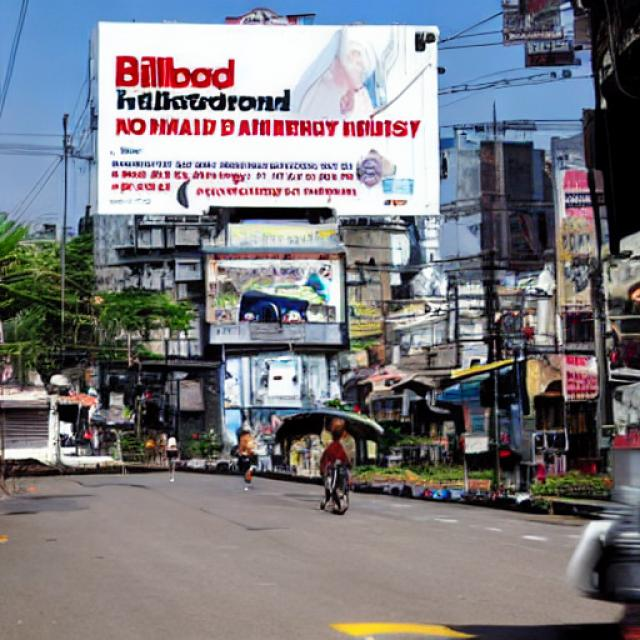Billboard: (94, 16, 444, 220)
